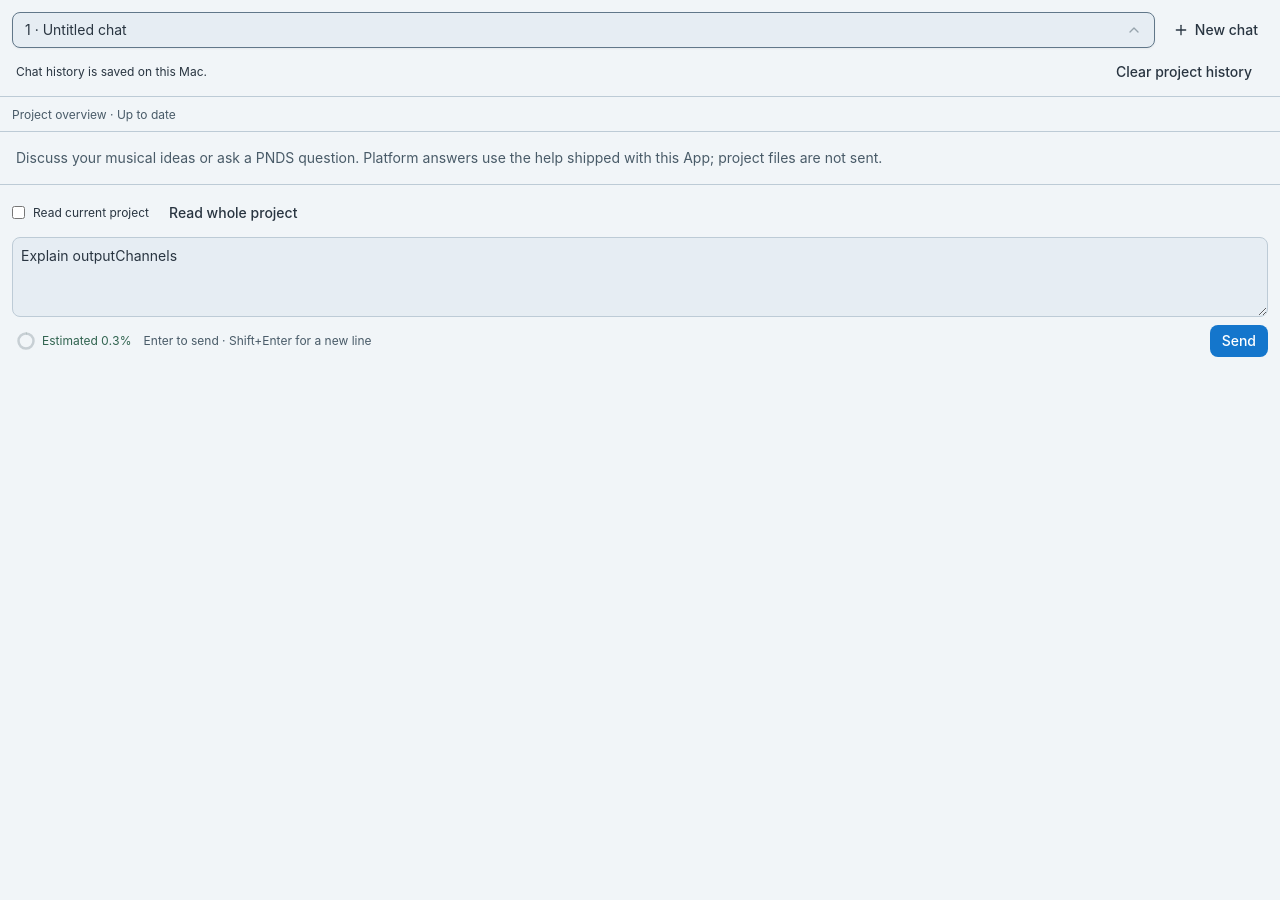
Test case: context and usage through the discussion (#233) › shows an explicitly estimated fraction from a generic reference tokenizer for any provider
Click the button with aria-label "Context: Estimated 0.3%" at (74, 341), box 12,325 -> 136,357
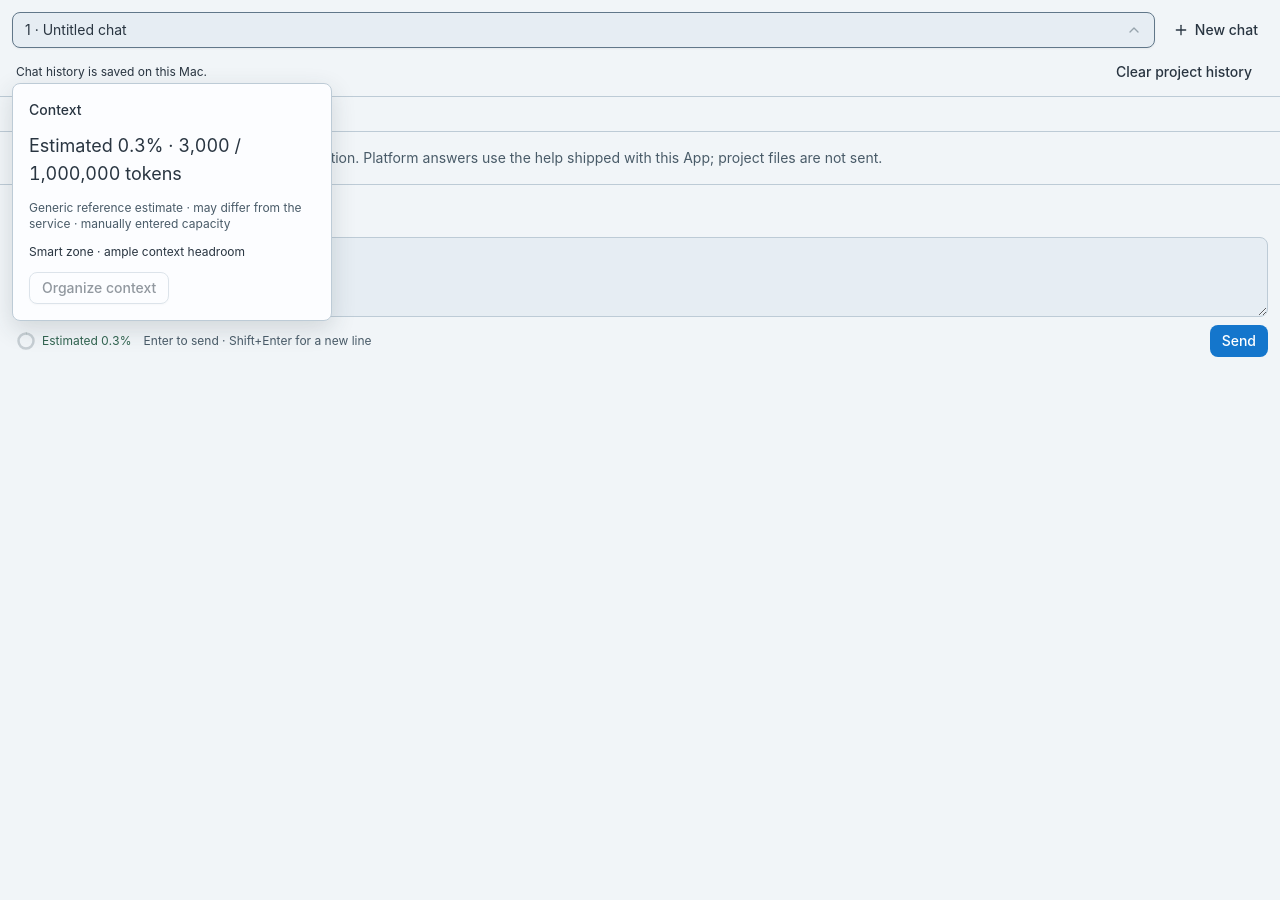
Now the text "Generic reference estimate" is shown, box 29,200 -> 302,231
Now the text "Smart zone · ample context headroom" is shown, box 29,244 -> 245,259
